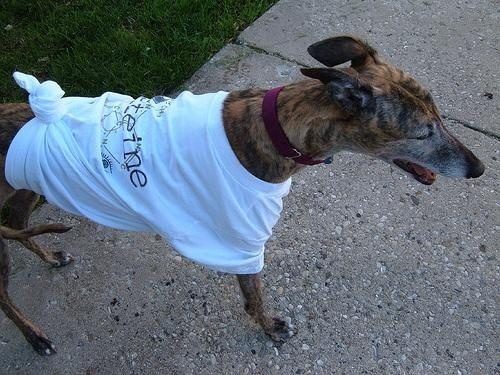dog: (1, 33, 487, 356)
